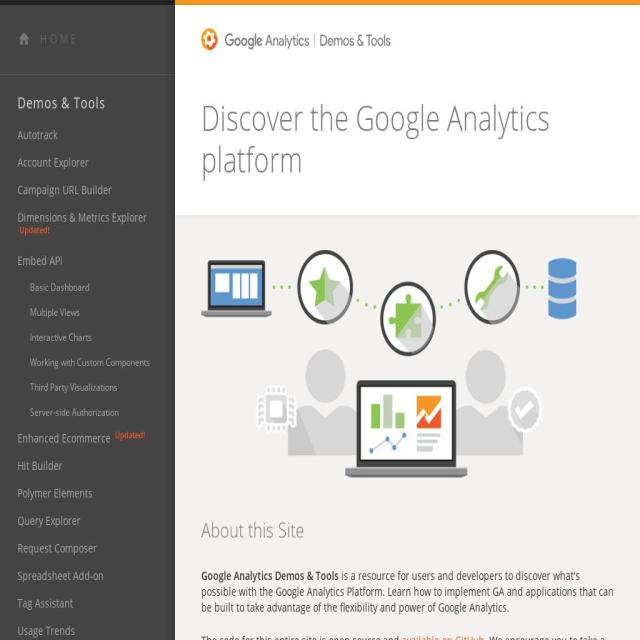button: (0, 204, 175, 248), (0, 148, 175, 177), (0, 424, 175, 453), (0, 479, 175, 508), (0, 534, 175, 563), (0, 589, 175, 618), (0, 121, 175, 149), (0, 176, 175, 204), (0, 247, 175, 275), (0, 452, 175, 480), (0, 507, 175, 535), (0, 562, 175, 590), (0, 274, 175, 300), (0, 299, 175, 325), (0, 324, 175, 350), (0, 349, 175, 375), (0, 374, 175, 400), (0, 399, 175, 425), (0, 616, 175, 640), (18, 28, 88, 50)
heading: (201, 96, 601, 180), (201, 515, 614, 544), (18, 93, 158, 114), (40, 30, 79, 48)
image: (202, 249, 576, 478), (201, 28, 391, 50), (18, 30, 30, 48)
link: (401, 631, 484, 640)
text: (201, 567, 614, 615), (201, 631, 605, 640), (17, 209, 147, 226), (201, 567, 339, 583), (201, 631, 401, 640), (18, 430, 113, 447), (114, 427, 145, 441), (19, 222, 49, 236)
